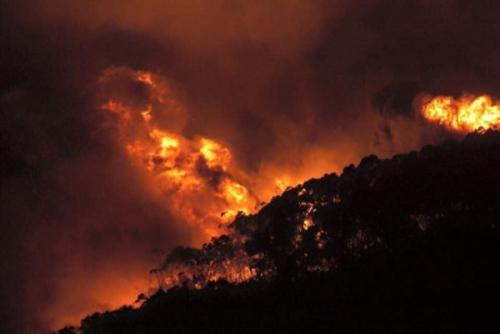fire: (94, 51, 281, 277), (373, 79, 495, 140)
